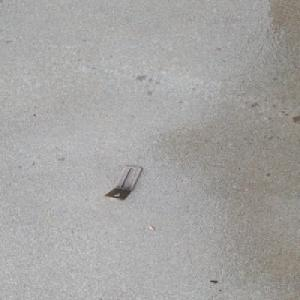MetalPart: (103, 165, 144, 200)
